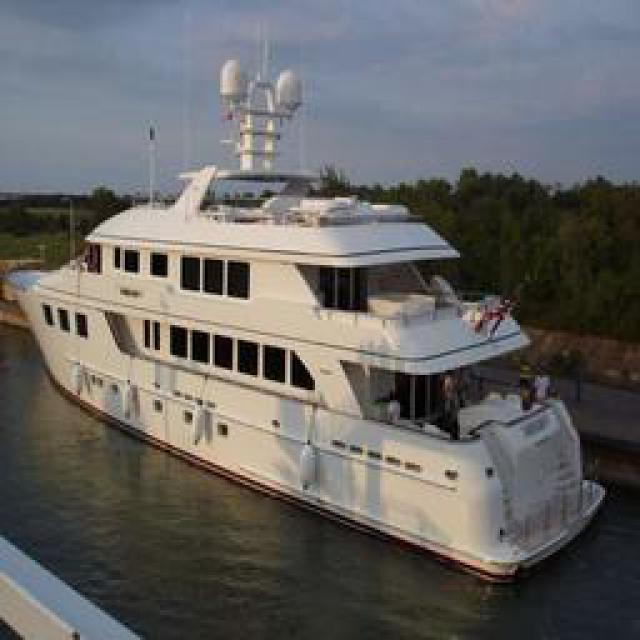Ship: (16, 32, 611, 605)
